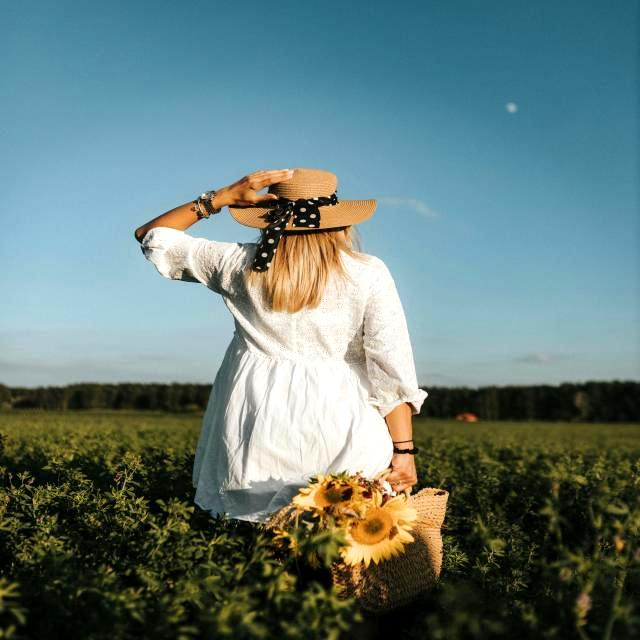no_hard_hat: (229, 169, 377, 232)
person: (136, 172, 426, 519)
